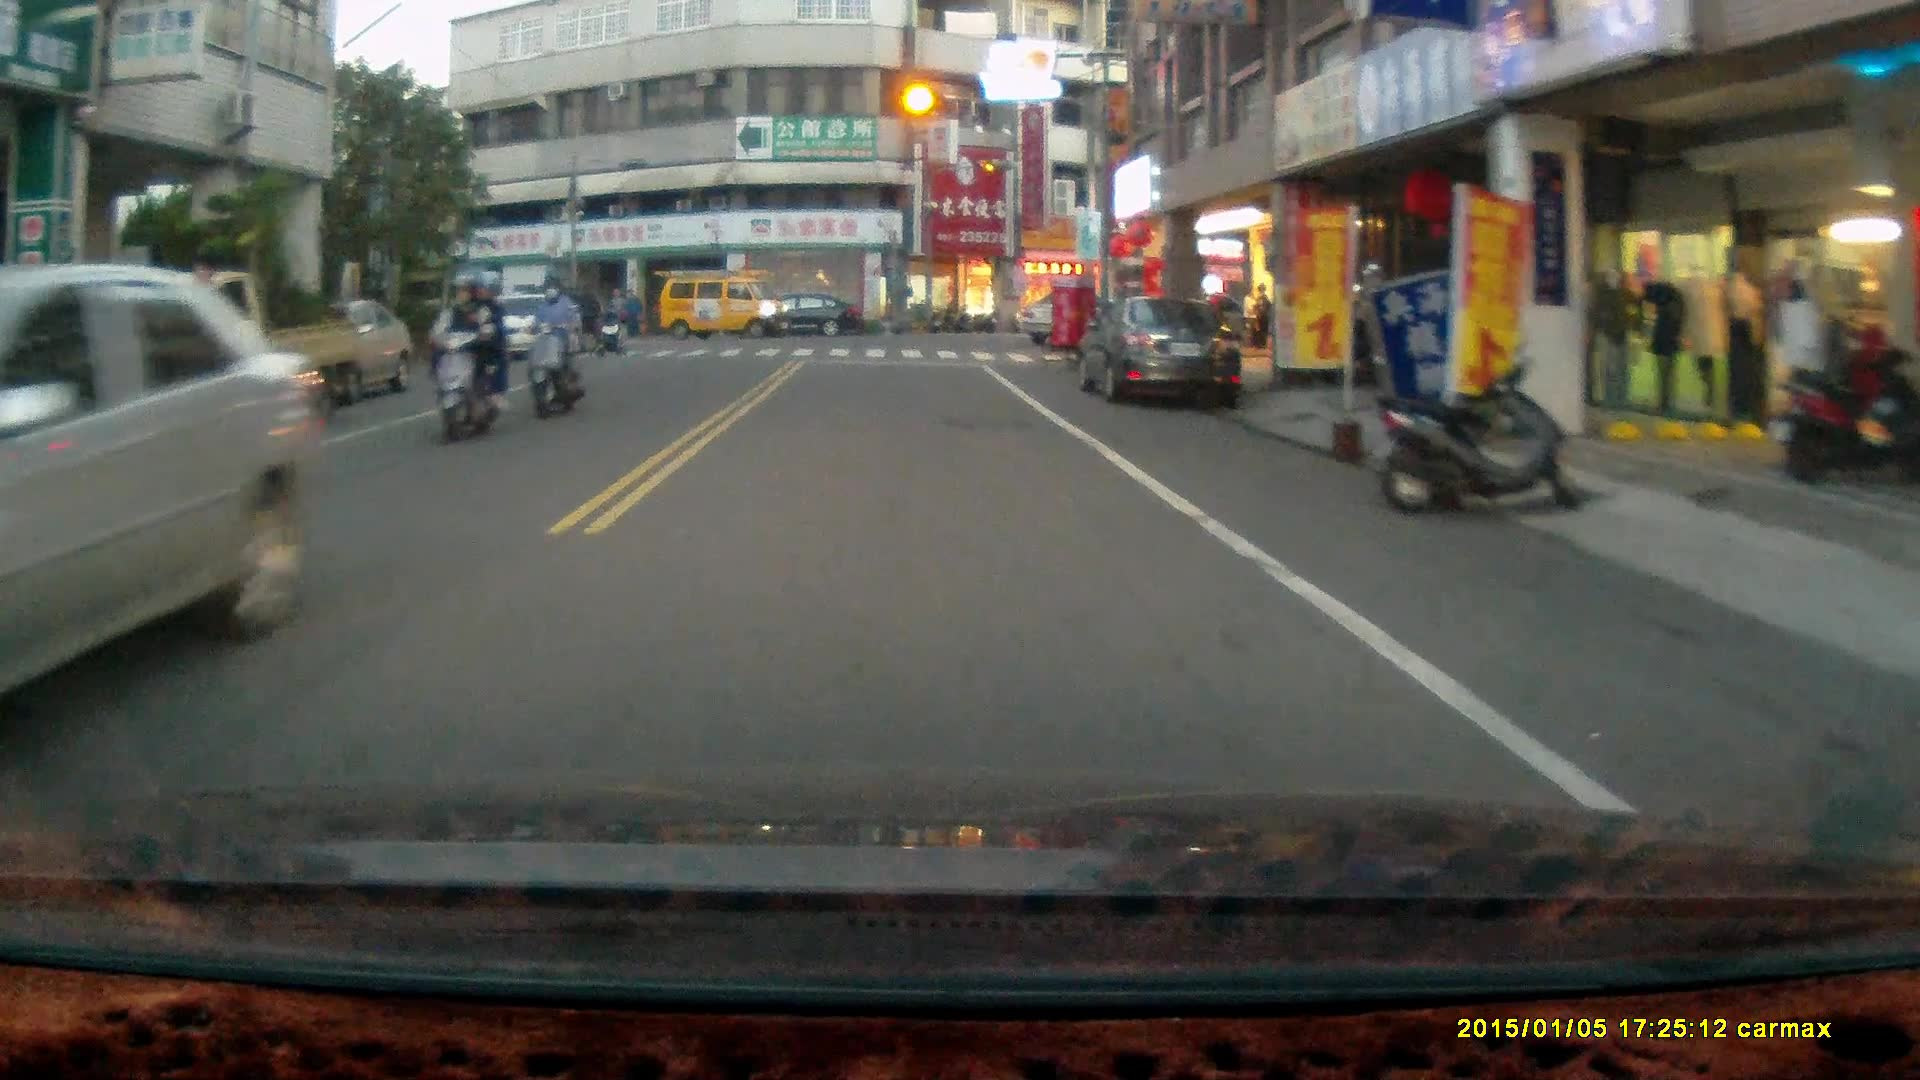pedestrian: (1250, 279, 1272, 351)
rider: (421, 268, 509, 445), (525, 272, 586, 420), (593, 305, 628, 358)
vehicle: (1070, 287, 1251, 420), (657, 266, 791, 339), (751, 291, 863, 338)
